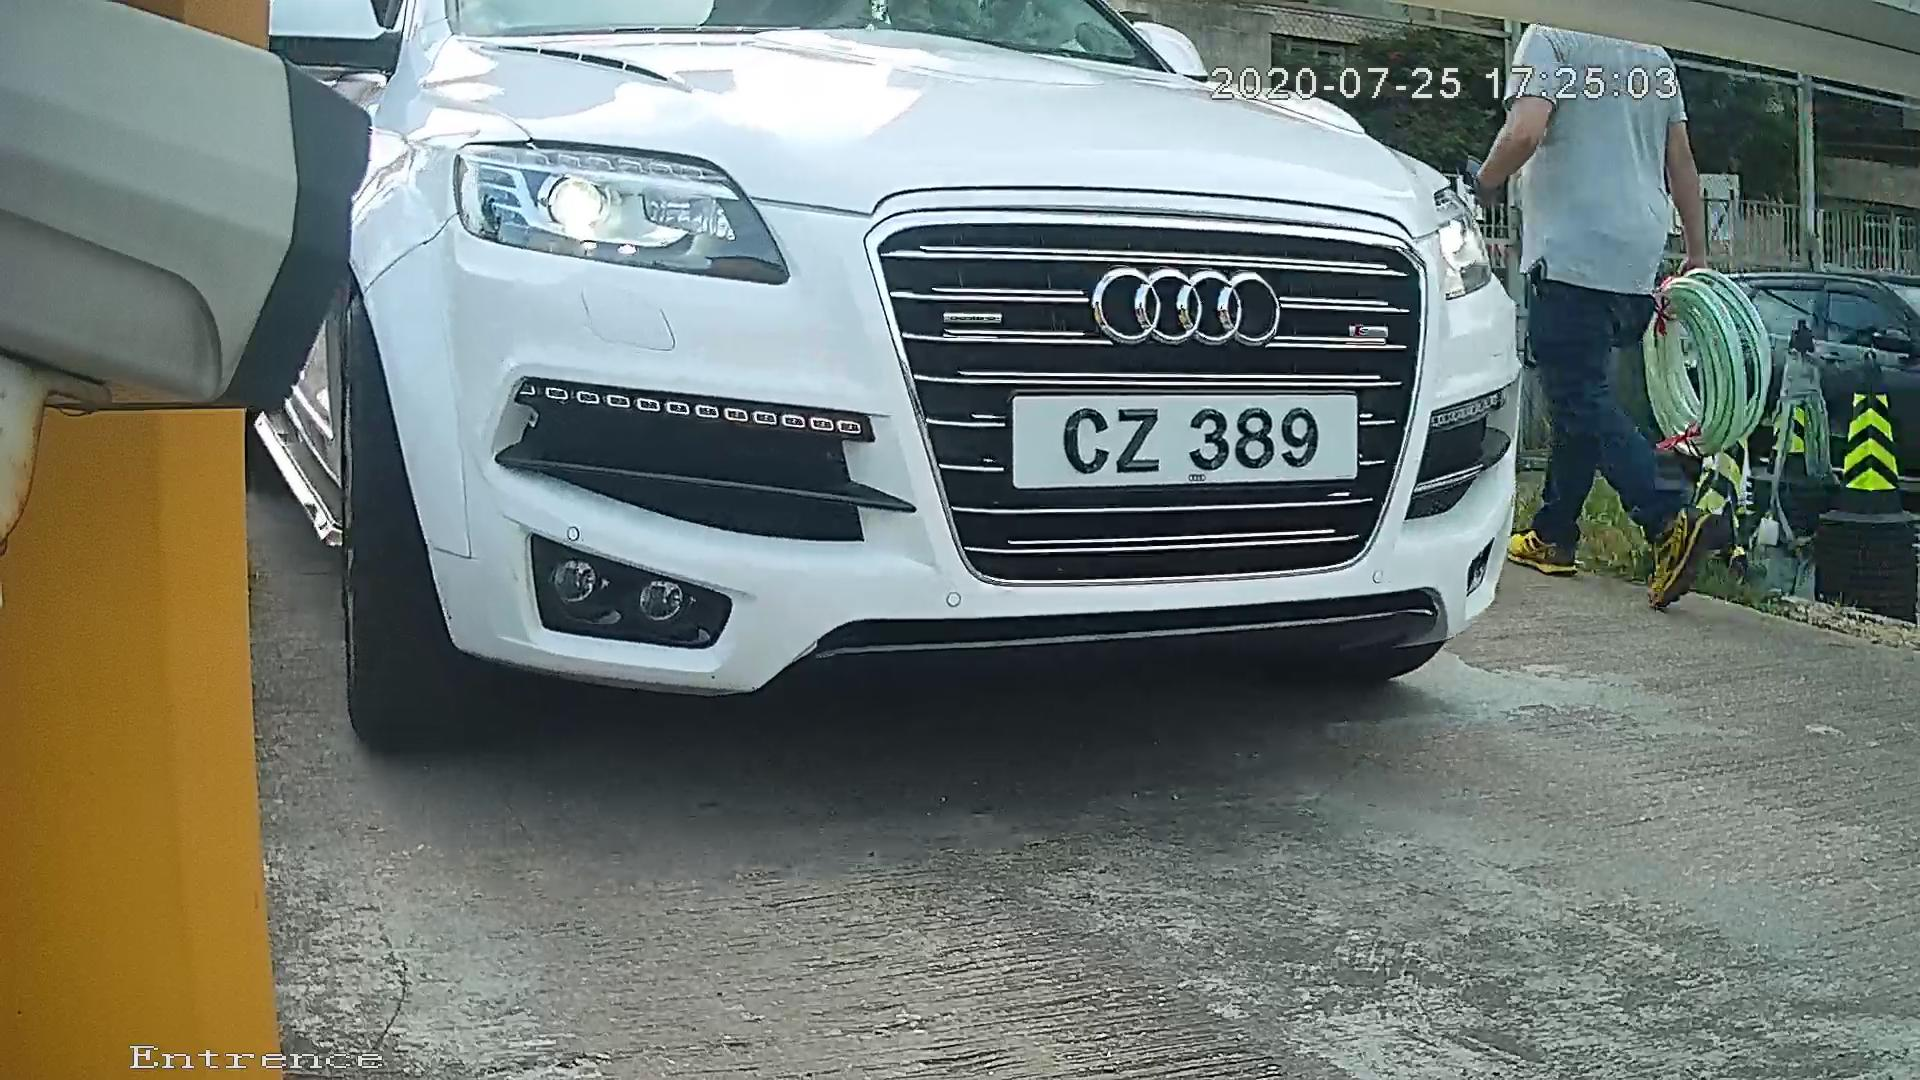Car: (129, 1, 1646, 757)
License Plate: (969, 372, 1398, 502)
